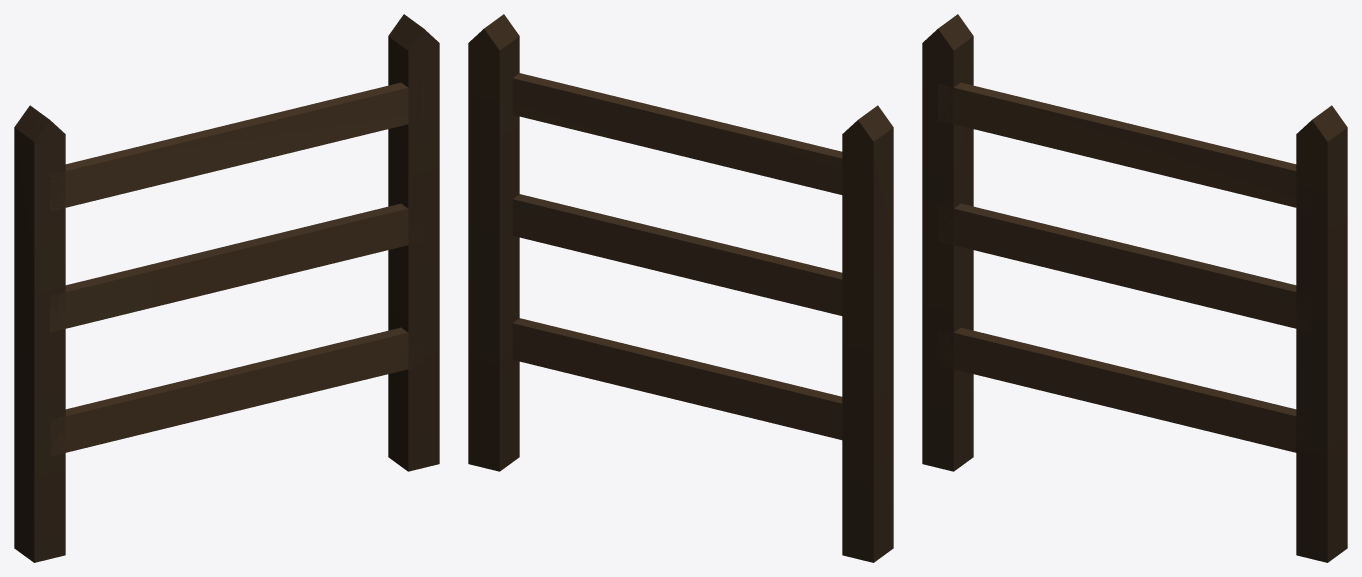
Rendered from fence.rail.dark.glb.
3 views of the same model, side by side, from view 1: azimuth 30°, elevation 25°; view 2: azimuth 150°, elevation 25°; view 3: azimuth 330°, elevation 25° (orthographic).
Visible parts, largest first — view 1: fence_rail_dark; view 2: fence_rail_dark; view 3: fence_rail_dark.
Part boxes in pixels (left/top/right/bottom): fence_rail_dark: left=14, top=14, right=439, bottom=562; fence_rail_dark: left=468, top=14, right=893, bottom=562; fence_rail_dark: left=922, top=14, right=1347, bottom=562.
Size of what is drawn, in the model's own units: 1.16 by 1.2 by 0.099.
